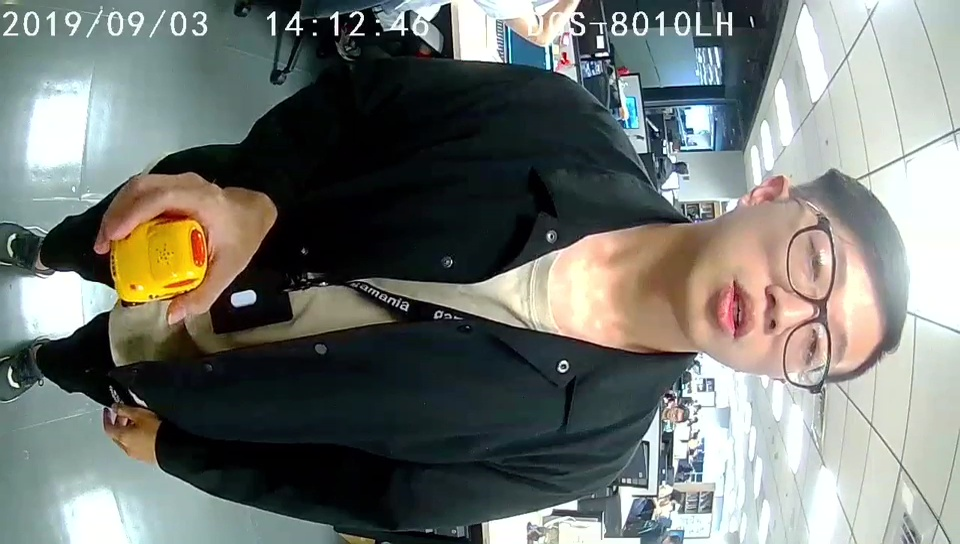car: (109, 213, 208, 302)
